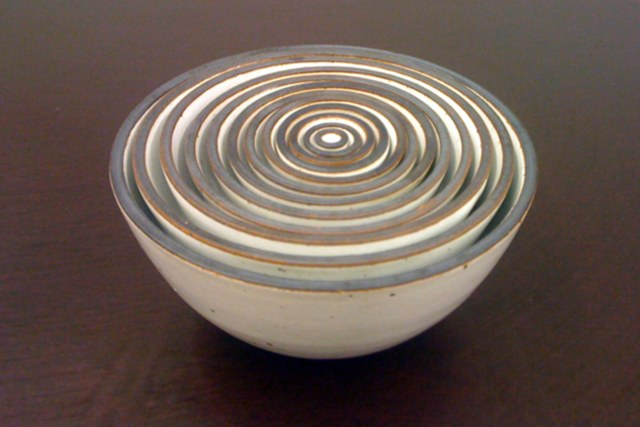bowl: (108, 43, 540, 359)
